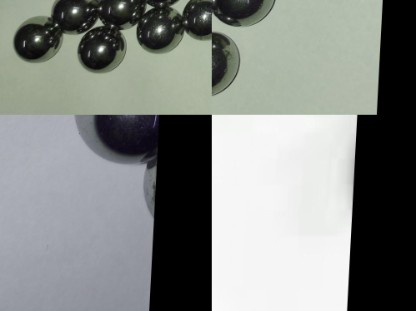ironball: (76, 112, 157, 176), (69, 23, 133, 70), (10, 13, 61, 65), (138, 7, 187, 56), (212, 0, 286, 31), (212, 28, 243, 100), (94, 0, 152, 30), (54, 0, 104, 33), (182, 0, 214, 41)
